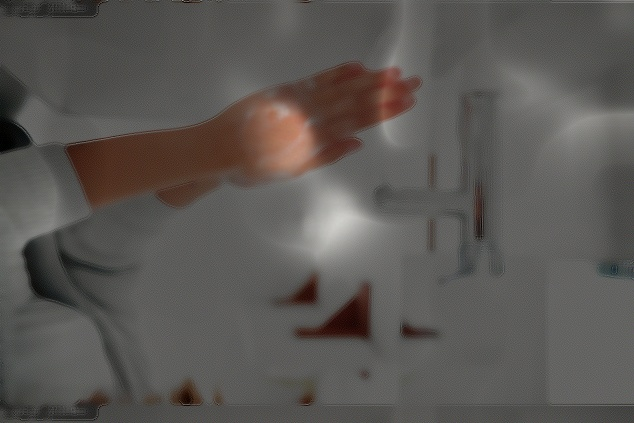washing hand: (192, 20, 558, 362)
